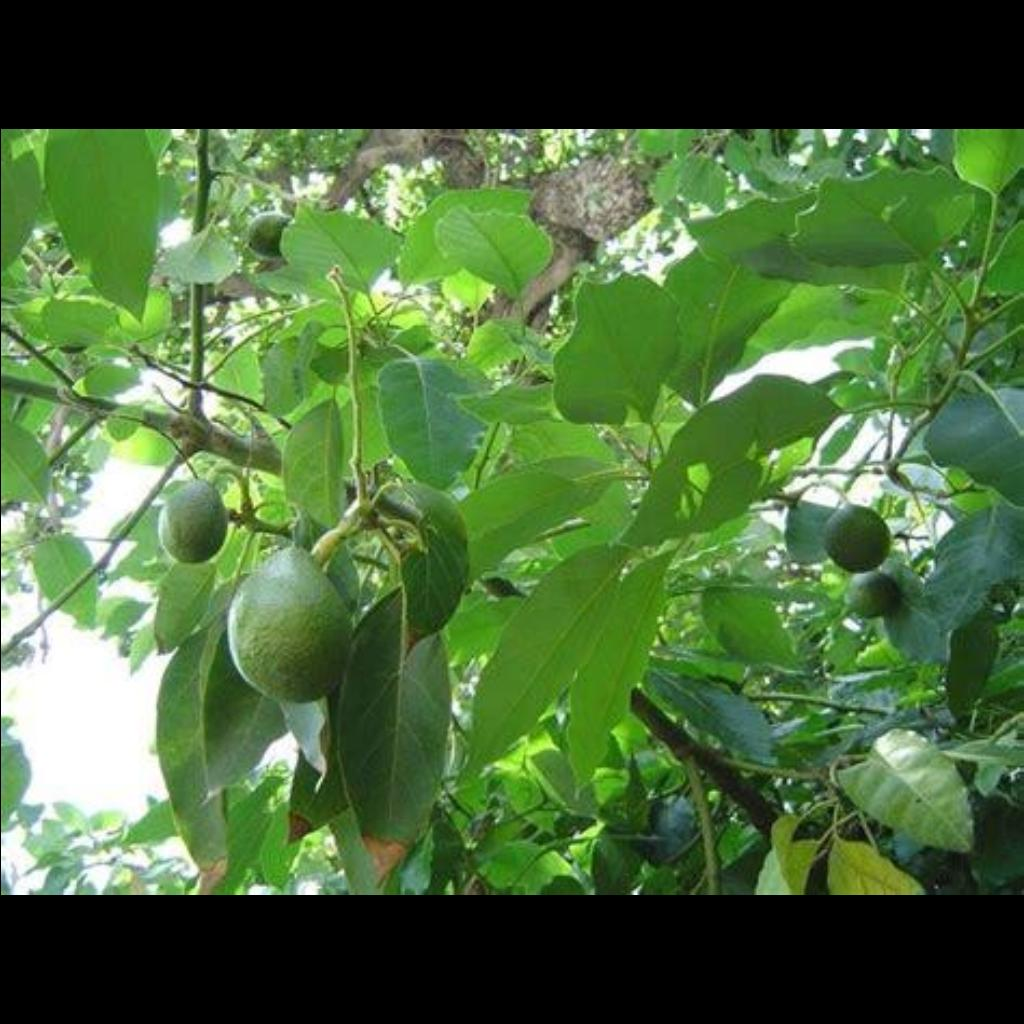fruto_sano: (229, 540, 361, 711), (138, 467, 257, 564), (816, 499, 909, 575), (240, 196, 294, 252)
